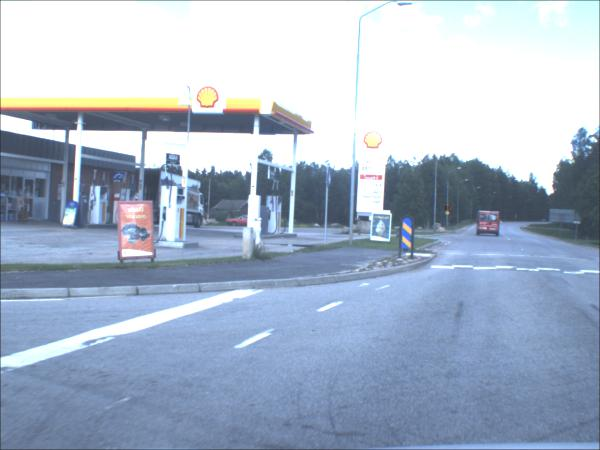50_SIGN: (445, 207, 451, 212)
PRIORITY_ROAD: (445, 213, 451, 217)
